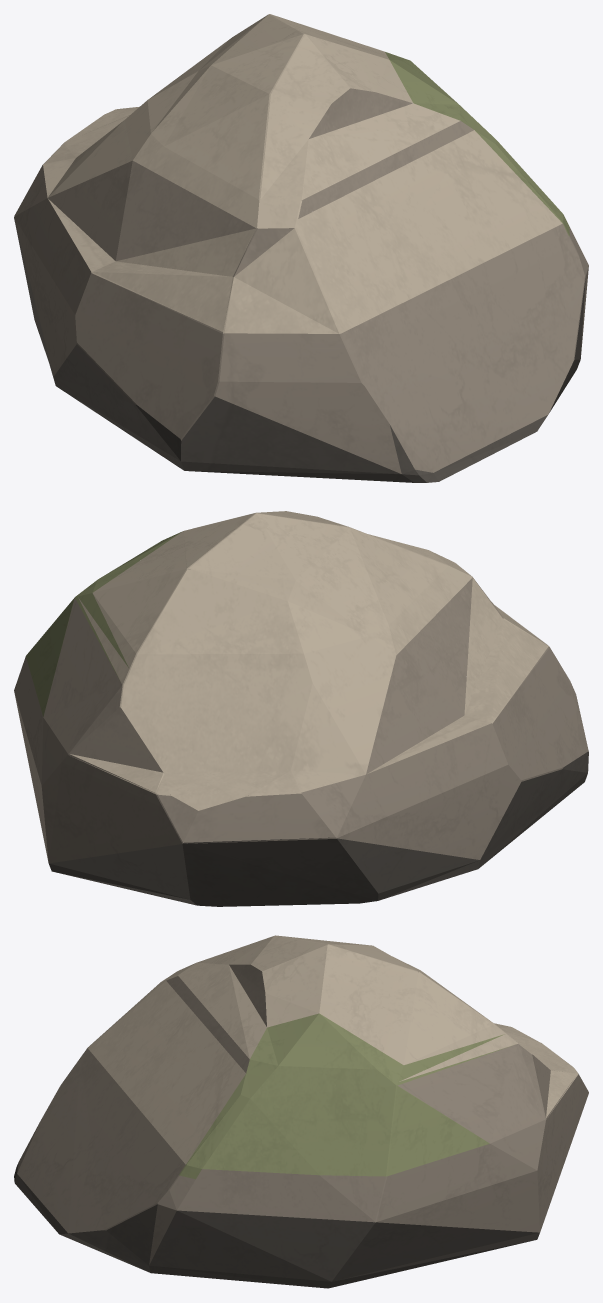
3 renders of one model, top to bottom at view 1: azimuth 30°, elevation 25°; view 2: azimuth 150°, elevation 25°; view 3: azimuth 270°, elevation 25°, orthographic. The views are drawn at different scales.
Parts seen in each view (by area): view 1: rock; view 2: rock; view 3: rock.
Part boxes in pixels (bbox=[...]): rock: bbox=[14, 14, 588, 482]; rock: bbox=[14, 511, 588, 906]; rock: bbox=[14, 935, 588, 1288].
Size of the model in its own units: 0.65 by 0.4 by 0.8.
4 materials, 4 textured.
